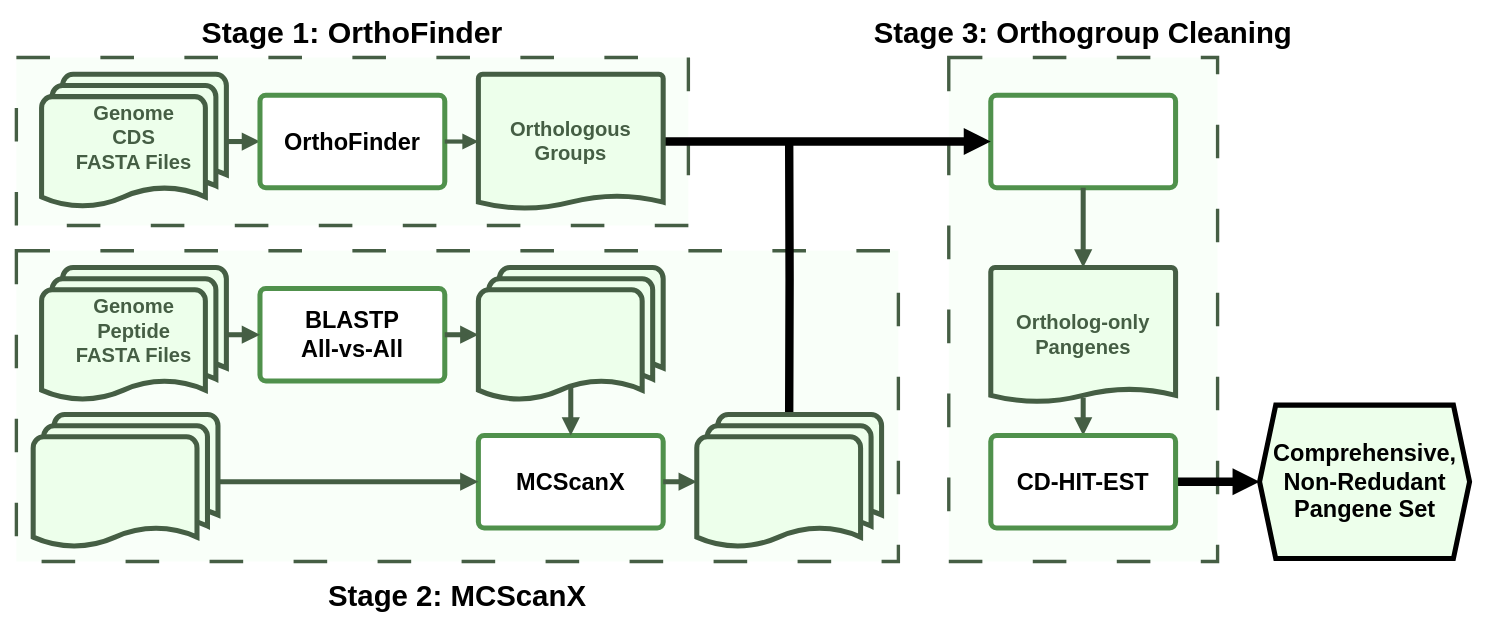
Image size: 1486x627. Some labels were removed from this diagram. Here are the shapes that lost their labels. From the top down, the box of each, then its label:
(988, 92, 1178, 190): Subdivide Original Orthogroups
(475, 265, 665, 404): Filtered BLASTP query results
(30, 412, 220, 551): Genome GFF Files
(694, 412, 884, 551): Microsynteny Information from Substitution Rates
